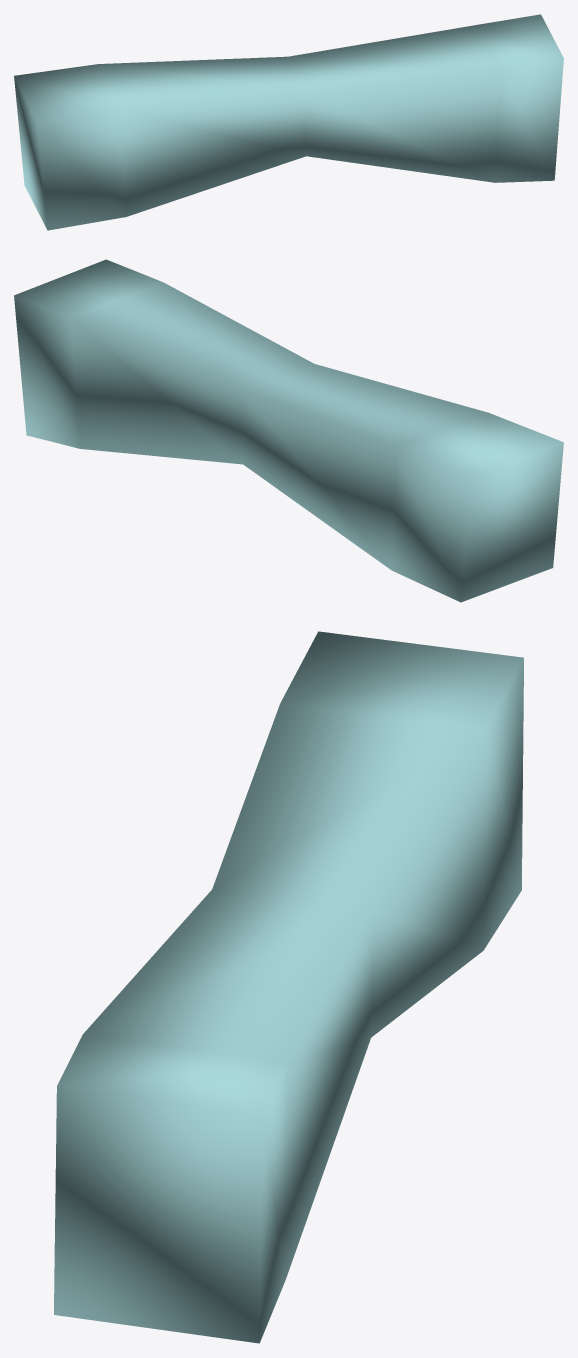
File: Skelly_palm.01.L.fbx
3 renders of one model, top to bottom at view 1: azimuth 30°, elevation 25°; view 2: azimuth 150°, elevation 25°; view 3: azimuth 270°, elevation 25°, orthographic. The views are drawn at different scales.
Visible parts, largest first — view 1: Skelly_palm.01.L; view 2: Skelly_palm.01.L; view 3: Skelly_palm.01.L.
Part boxes in pixels (x1,y1,x2,y2): Skelly_palm.01.L: [14, 14, 563, 230]; Skelly_palm.01.L: [14, 259, 563, 602]; Skelly_palm.01.L: [54, 631, 523, 1343].
Size of the model in its own units: 9.04 by 2.17 by 3.76.
